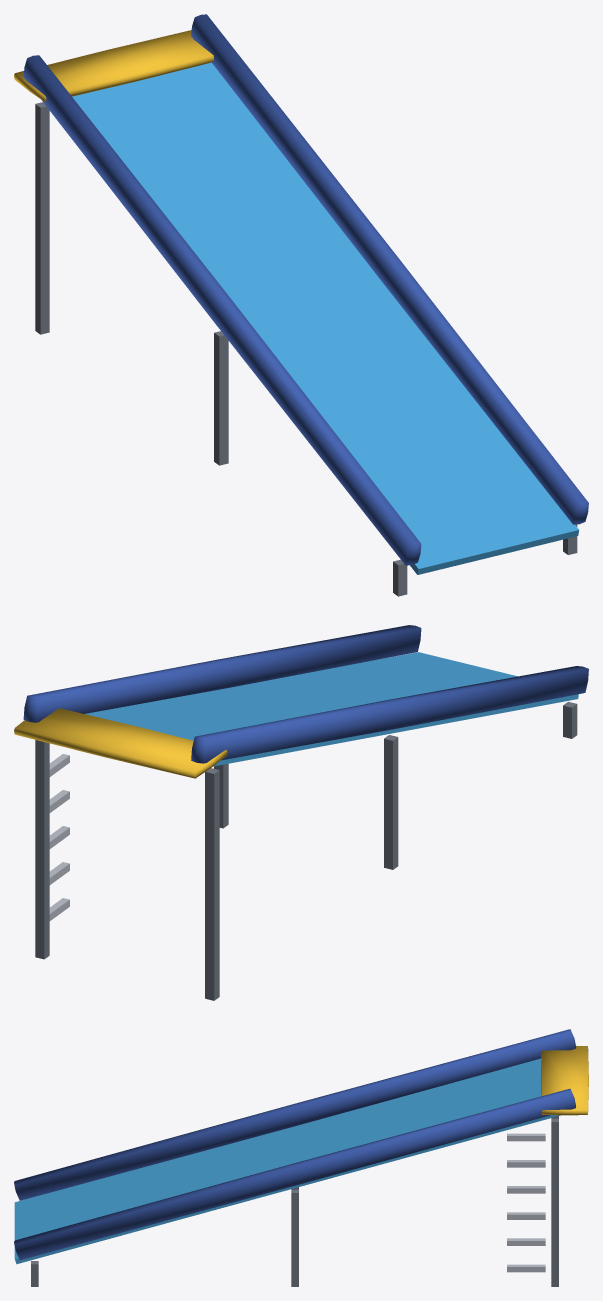
The model's file is slide_chute.glb.
3 views of the same model, one above another, from view 1: azimuth 30°, elevation 25°; view 2: azimuth 150°, elevation 25°; view 3: azimuth 270°, elevation 25° (orthographic). The views are drawn at different scales.
Parts seen in each view (by area): view 1: root; view 2: root; view 3: root.
Part boxes in pixels (x1=…): root: x1=14, y1=14, x2=588, y2=596; root: x1=14, y1=625, x2=588, y2=1000; root: x1=14, y1=1029, x2=588, y2=1286.
Bounding box in the file's own units: 1.63 × 2.21 × 5.91.
